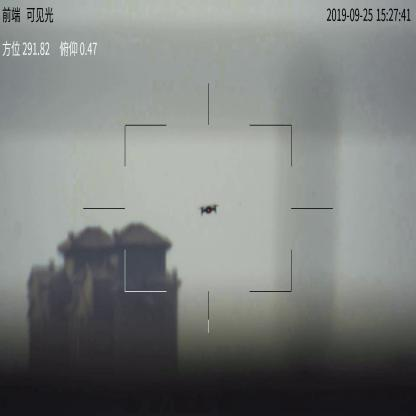uav: (199, 204, 219, 215)
